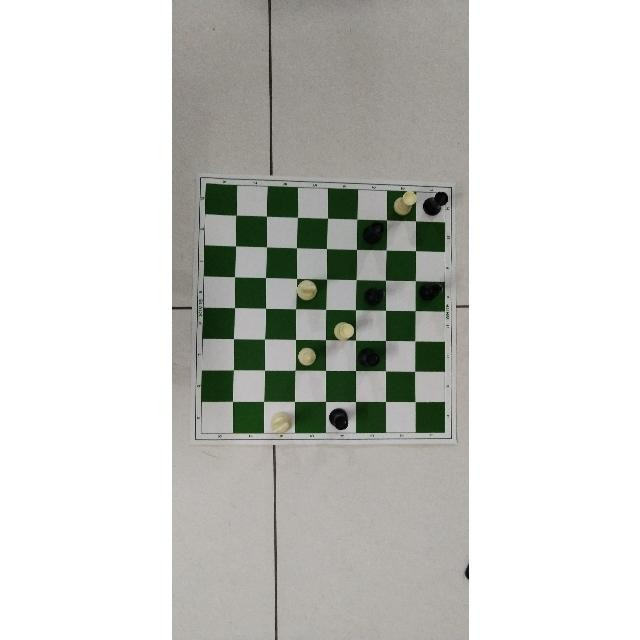black-bishop: (418, 282, 442, 302), (363, 286, 385, 307)
black-rook: (421, 192, 447, 216), (360, 220, 383, 244), (356, 346, 379, 368), (327, 408, 348, 431)
white-bishop: (296, 347, 316, 366)
white-knight: (270, 411, 292, 435), (295, 280, 317, 302)
white-rook: (393, 191, 417, 215), (332, 321, 354, 341)
